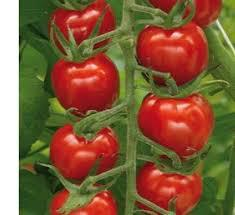tomato: (139, 90, 214, 159), (140, 17, 209, 88), (53, 51, 120, 118), (51, 122, 121, 182), (49, 2, 115, 58), (135, 160, 204, 213), (50, 185, 121, 214)
